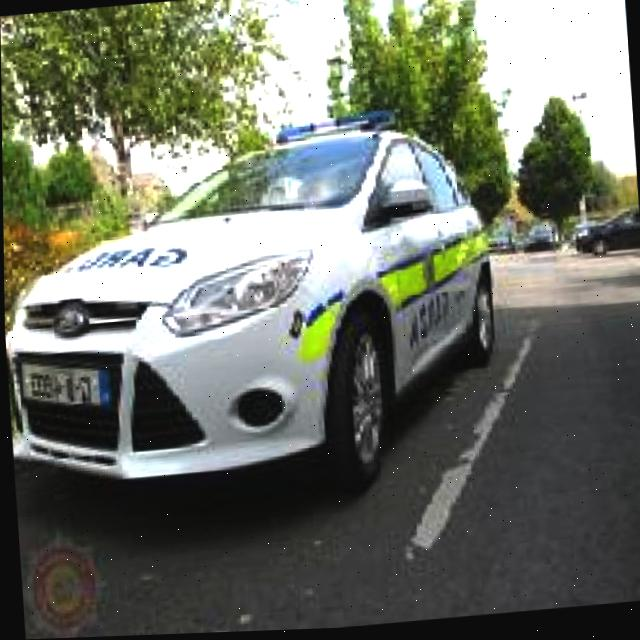emergency: (1, 102, 509, 524)
